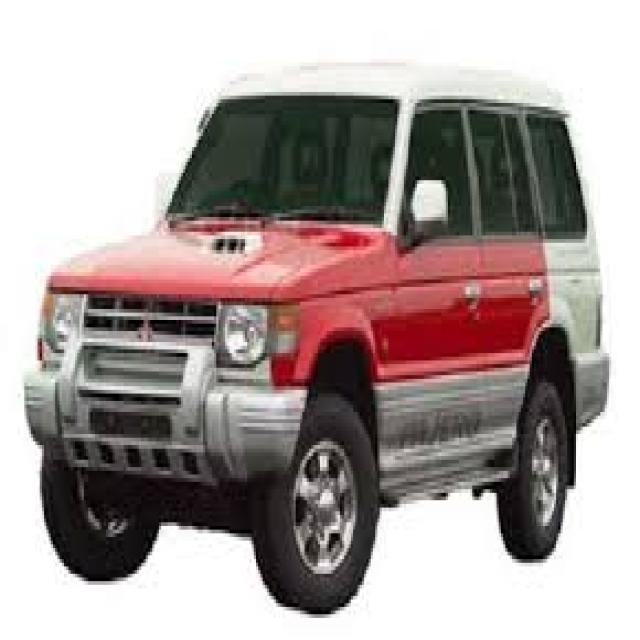light_vehicle: (22, 63, 611, 614)
